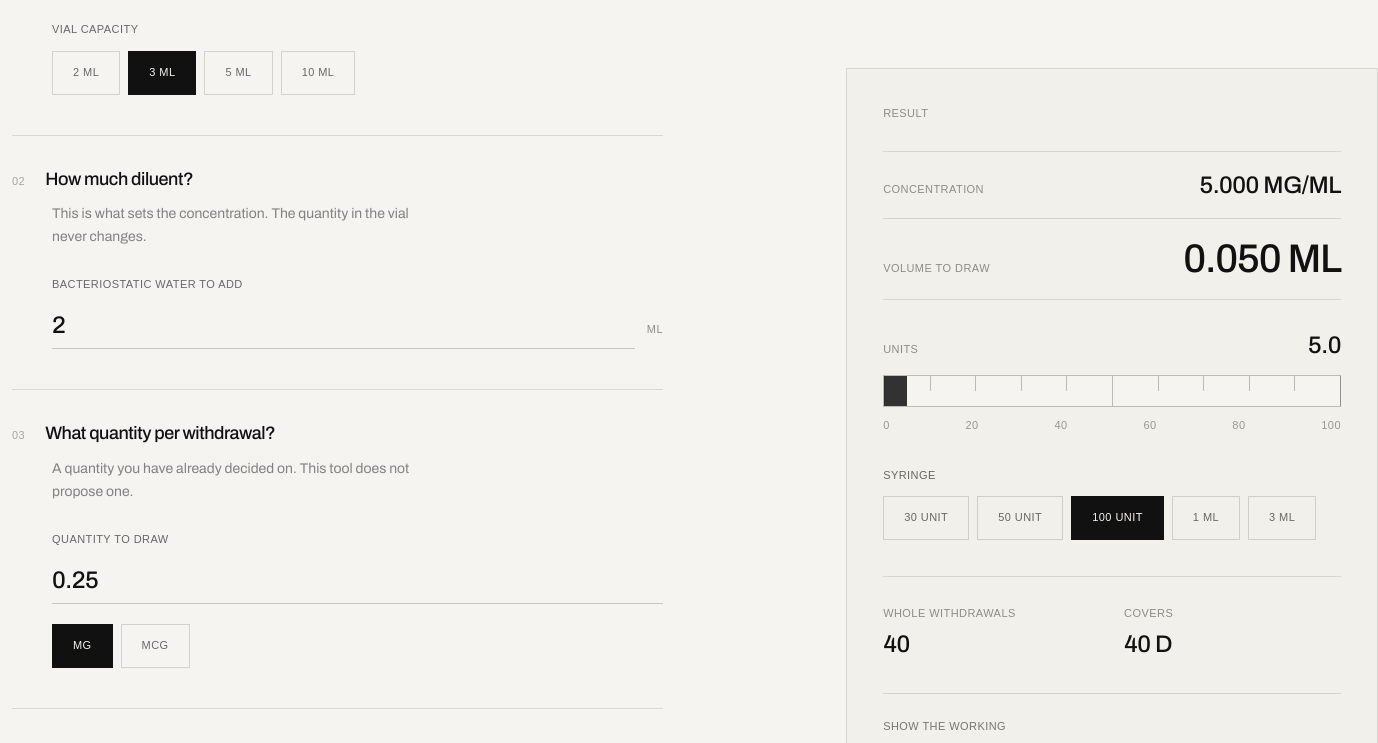
reconstitute › shows the working on request
(page scrolled)
What coordinates should you click on to do the following:
click the heading "Show the working"
I would click on:
 (945, 726)
Its box is [883, 720, 1006, 732].
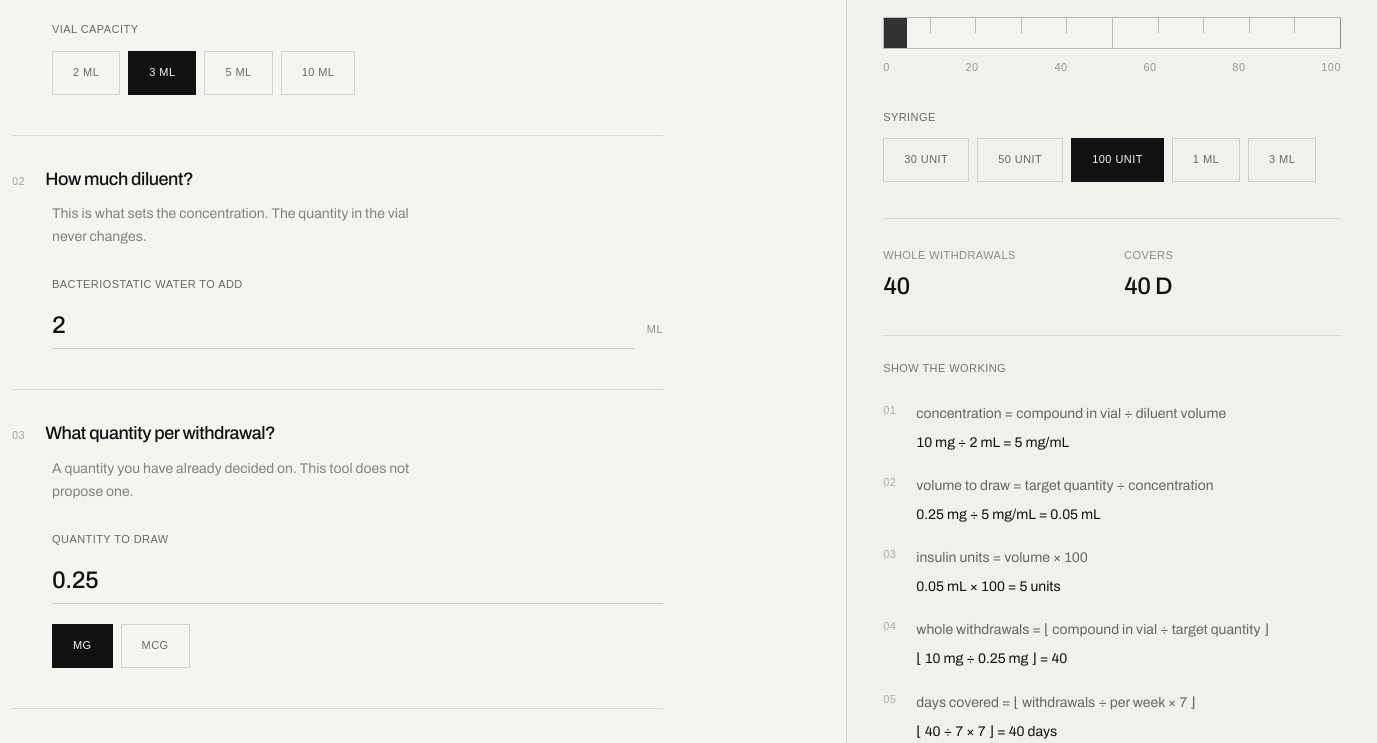
Now the text "concentration = compound in vial ÷ diluent volume" is shown, box [916, 402, 1226, 425]
